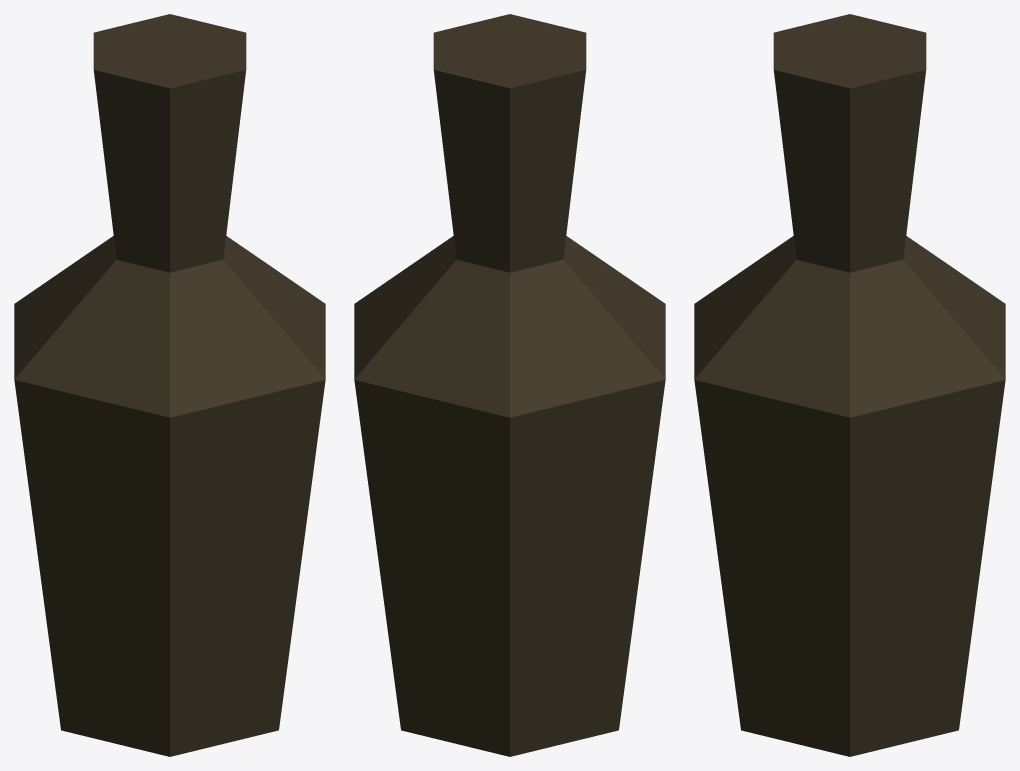
Rendered from ITMI_ALCHEMY_STONEOIL_03.OBJ.
3 views of the same model, side by side, from view 1: azimuth 30°, elevation 25°; view 2: azimuth 150°, elevation 25°; view 3: azimuth 270°, elevation 25° (orthographic).
Parts seen in each view (by area): view 1: ITMI_ALCHEMY_STONEOIL_03; view 2: ITMI_ALCHEMY_STONEOIL_03; view 3: ITMI_ALCHEMY_STONEOIL_03.
Part boxes in pixels (<box>): ITMI_ALCHEMY_STONEOIL_03: <box>14,14,325,756</box>; ITMI_ALCHEMY_STONEOIL_03: <box>354,14,665,756</box>; ITMI_ALCHEMY_STONEOIL_03: <box>694,14,1005,756</box>.
Bounding box in the file's own units: 0.15 × 0.3005 × 0.1299.
